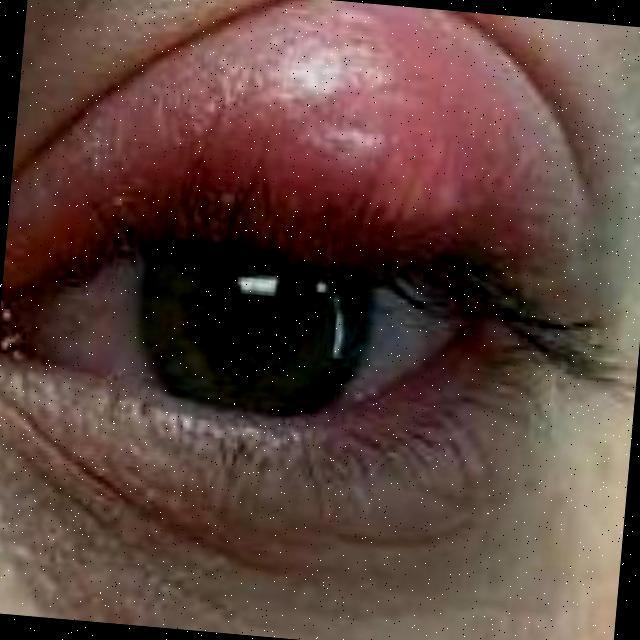Stye: (19, 0, 583, 363)
